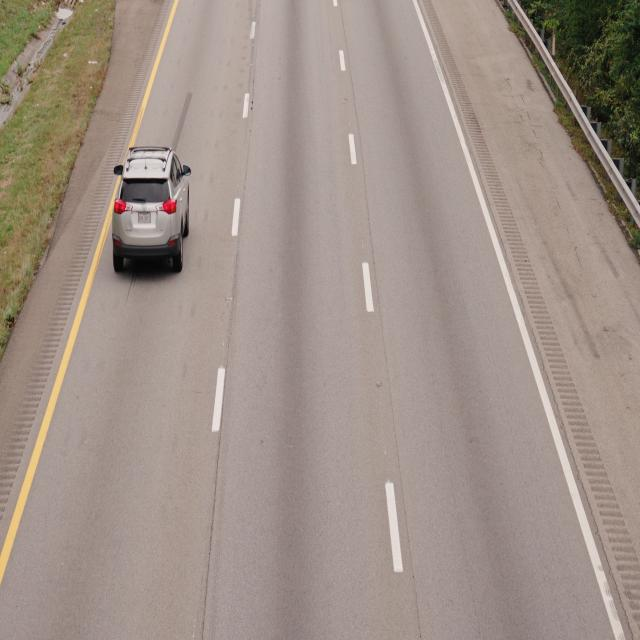Car: (110, 146, 190, 276)
